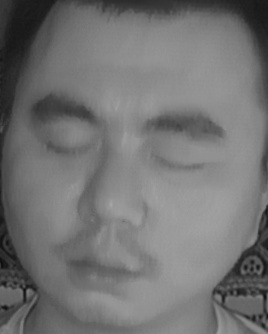blink: (154, 143, 209, 182), (44, 128, 100, 166)
mouth: (61, 233, 151, 293)
